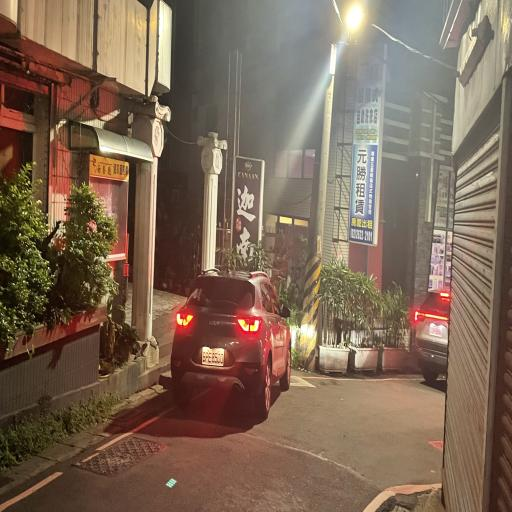MIU: (152, 355, 212, 431), (274, 327, 314, 405), (408, 346, 441, 406)
car: (164, 256, 300, 428), (410, 279, 456, 395)
redline: (0, 390, 174, 511), (291, 367, 430, 391)
